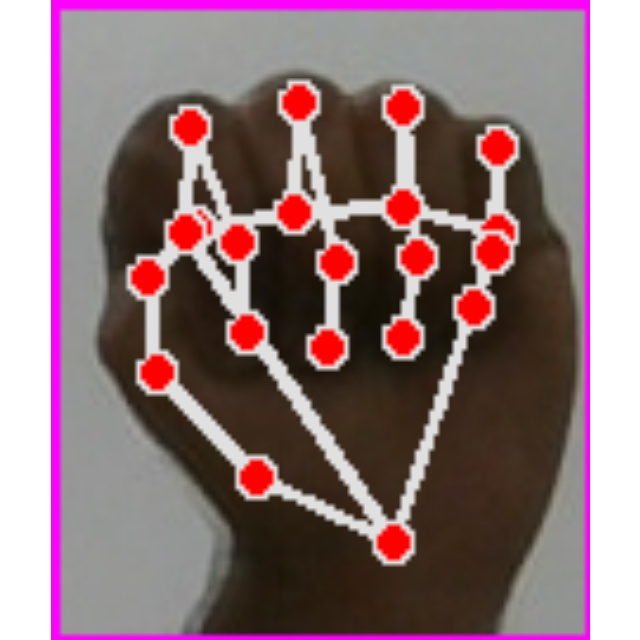A: (51, 0, 590, 640)
